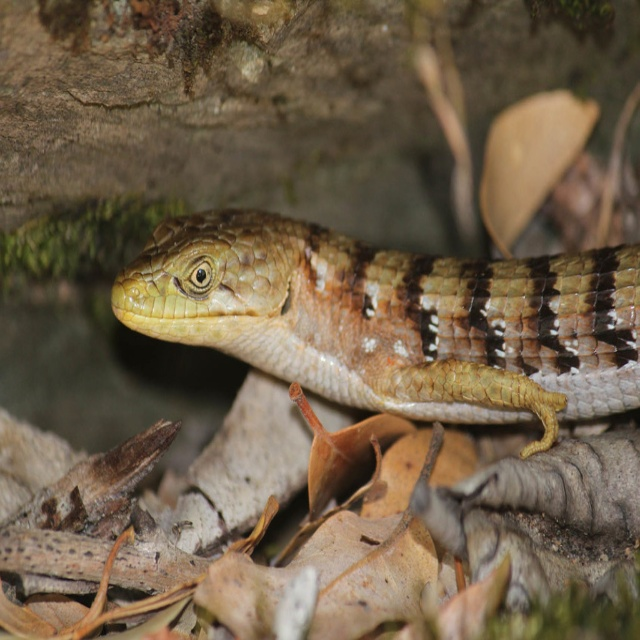Lizard: (111, 206, 640, 460)
